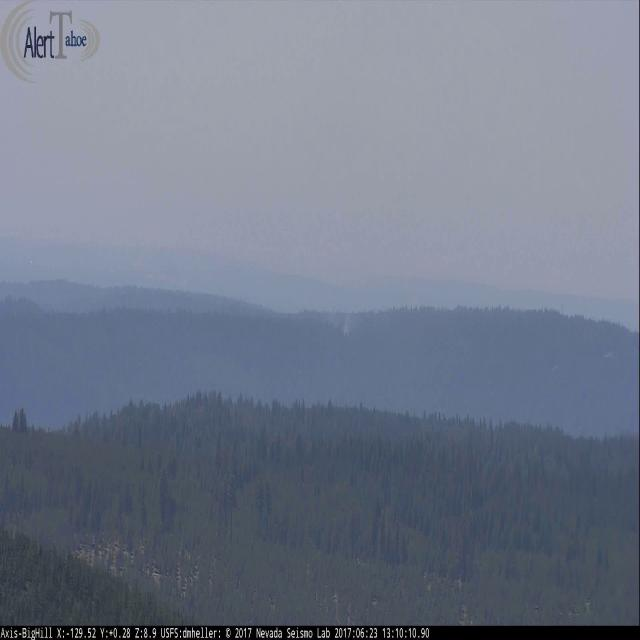smoke: (324, 305, 355, 334)
